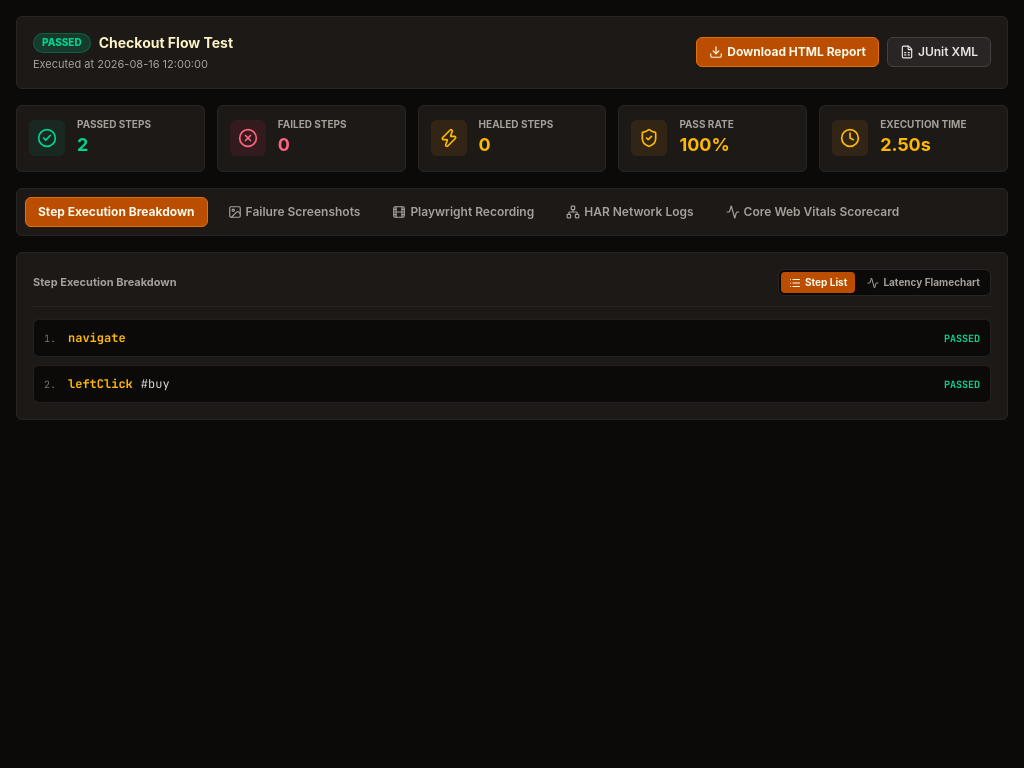
Test case: TestReports › toggles to Latency Flamechart view when flamechart button clicked
Click the button "Latency Flamechart": (924, 283) [859,272,988,293]
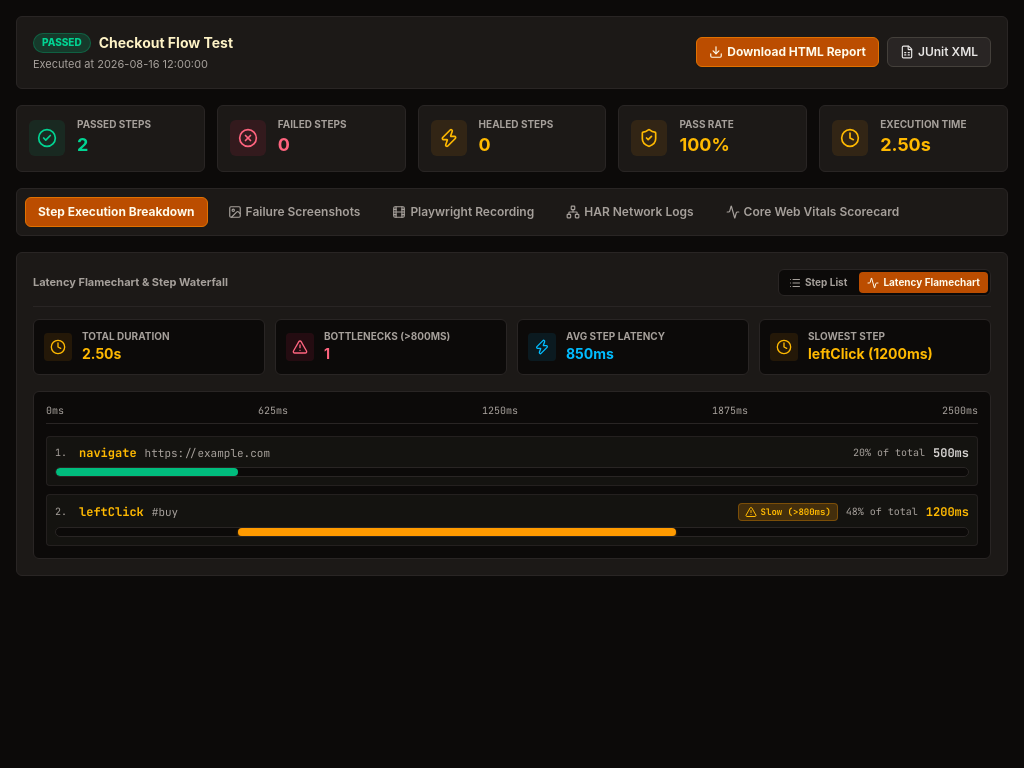
Expected: the text "Slow (>800ms)" is shown, [761,506,831,518]
Expected: the text "1200ms" is shown, [926,504,969,520]
Expected: the text "500ms" is shown, [933,445,969,461]
// Toggle back to list view
Click the button "Step List": (818, 283) [781,272,855,293]
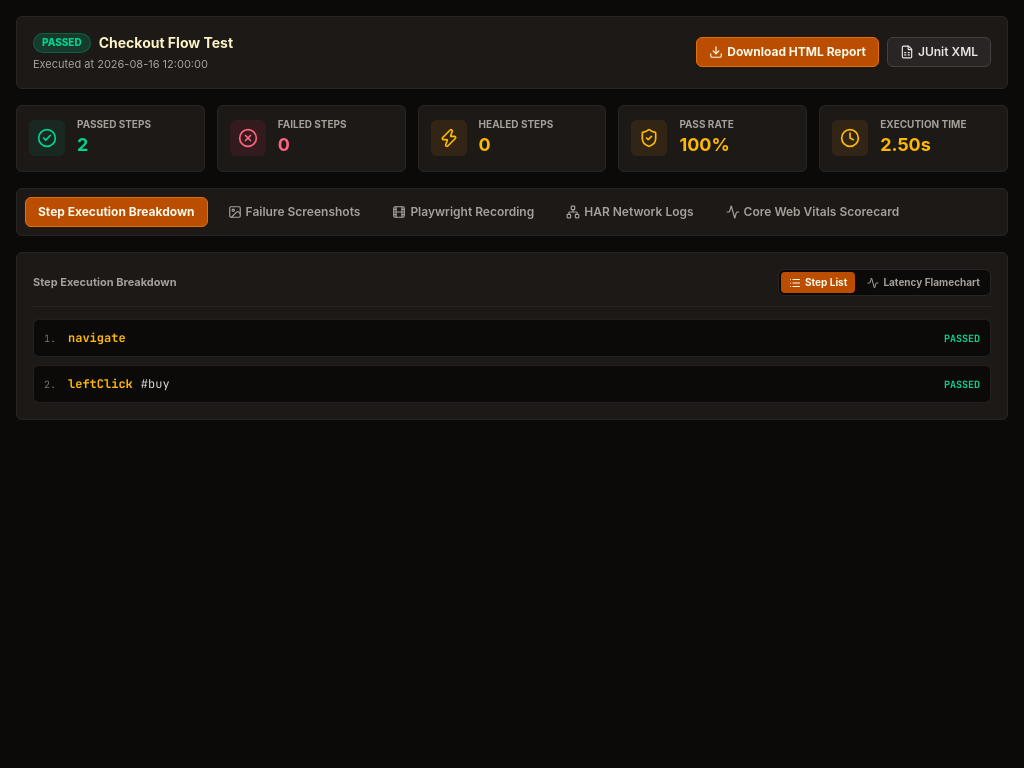
Expected: the text "navigate" is shown, [68,330,126,346]
Expected: the text "Slow (>800ms)" is gone
